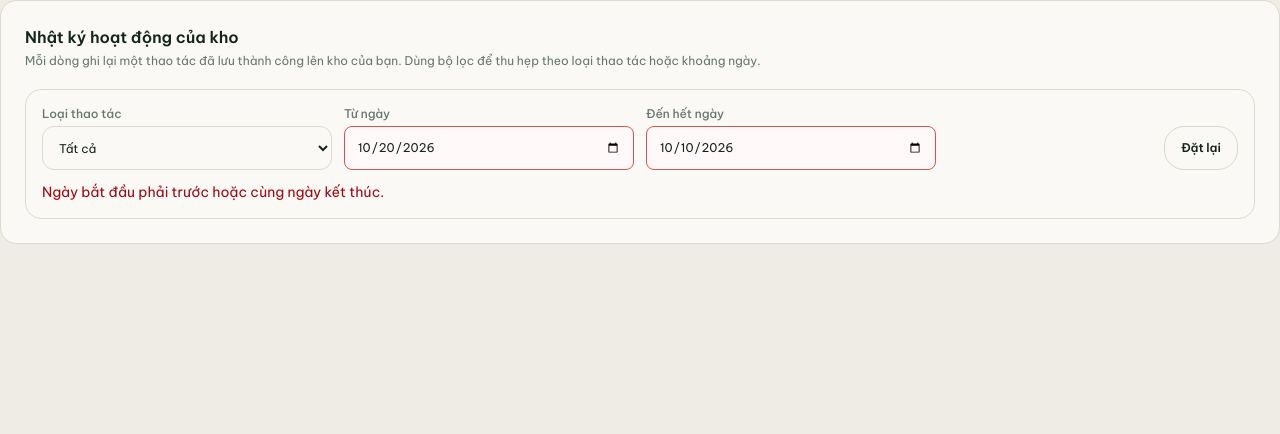
Test: OwnerAuditLog URL state › preserves a reversed URL range and lets the user correct it before requesting
Expected: the message shows "Ngày bắt đầu phải trước", [42, 183, 384, 201]
Type "2026-10-21" into the date field labelled "Đến hết ngày".
click(791, 148); type("2026-10-21")  # box [646, 126, 936, 170]
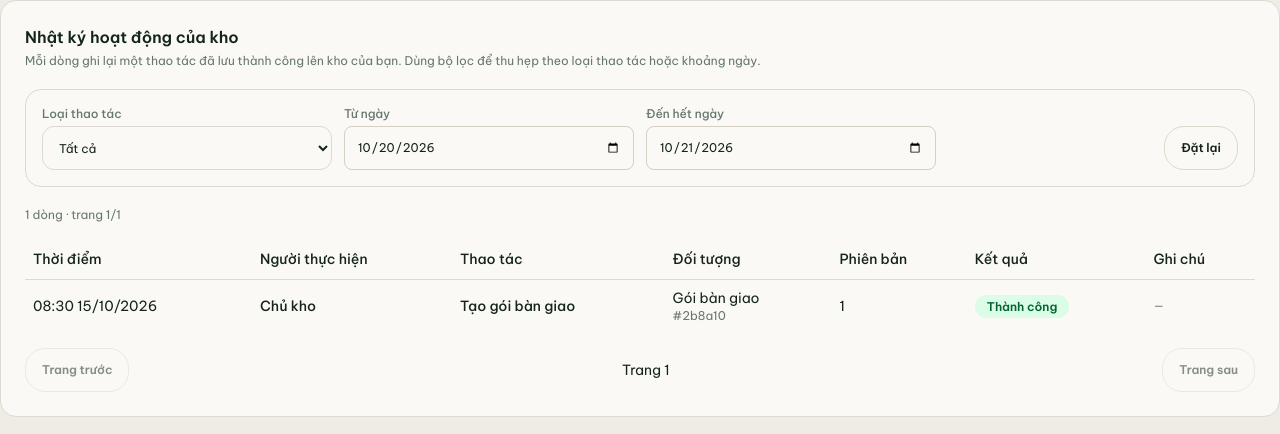
Now the message "Ngày bắt đầu phải trước hoặc cùng ngày kết thúc." is gone
